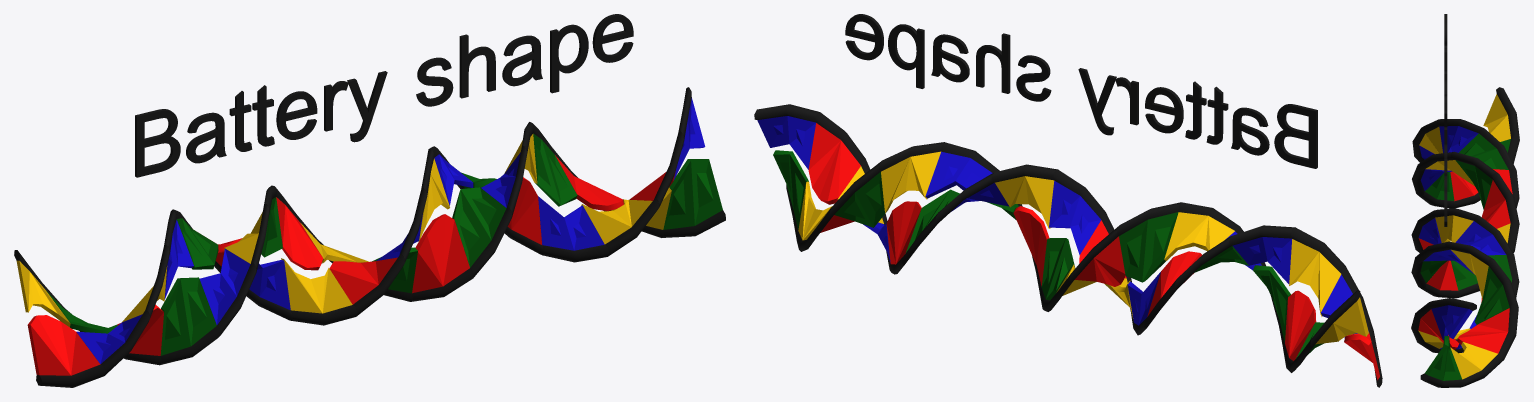
Rendered from Gene_Battery.FBX.
3 renders of one model, left to right at view 1: azimuth 30°, elevation 25°; view 2: azimuth 150°, elevation 25°; view 3: azimuth 270°, elevation 25°, orthographic. The views are drawn at different scales.
Visible parts, largest first — view 1: Group001, Text001; view 2: Group001, Text001; view 3: Group001, Text001.
Boxes of the visible parts, x1,y1,x2,y2 form: Group001: [14, 87, 725, 387]; Text001: [135, 14, 633, 177]; Group001: [754, 104, 1382, 387]; Text001: [845, 14, 1317, 168]; Group001: [1411, 87, 1519, 387]; Text001: [1444, 14, 1447, 226].
Size of the model in its own units: 180 by 36.31 by 68.75.
